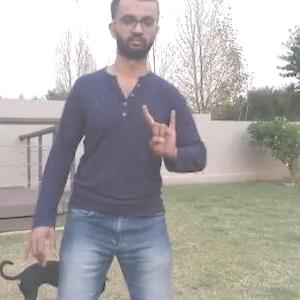takeoff-hand: (140, 98, 184, 165)
